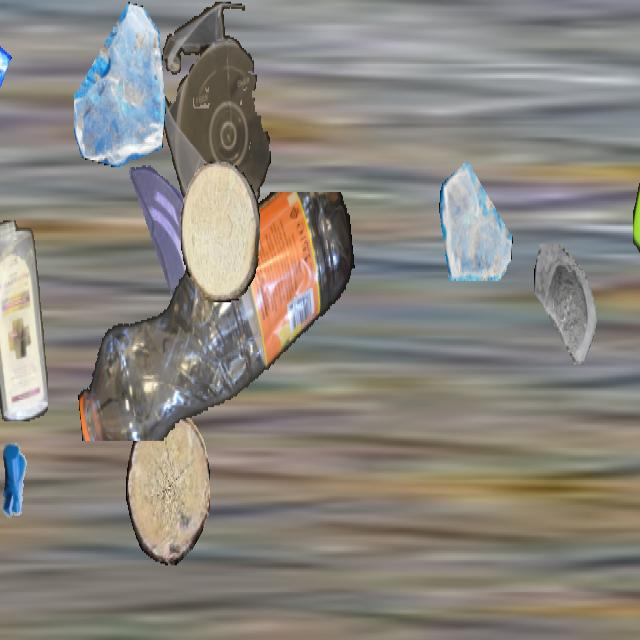glass: (74, 2, 166, 165), (125, 158, 209, 308), (533, 244, 609, 378), (439, 156, 513, 288), (0, 2, 12, 148)
metal: (0, 428, 46, 538)
plastic: (73, 192, 357, 441), (160, 2, 272, 236), (0, 220, 47, 420), (633, 100, 640, 334)
wood: (126, 412, 210, 566), (181, 162, 259, 300)
